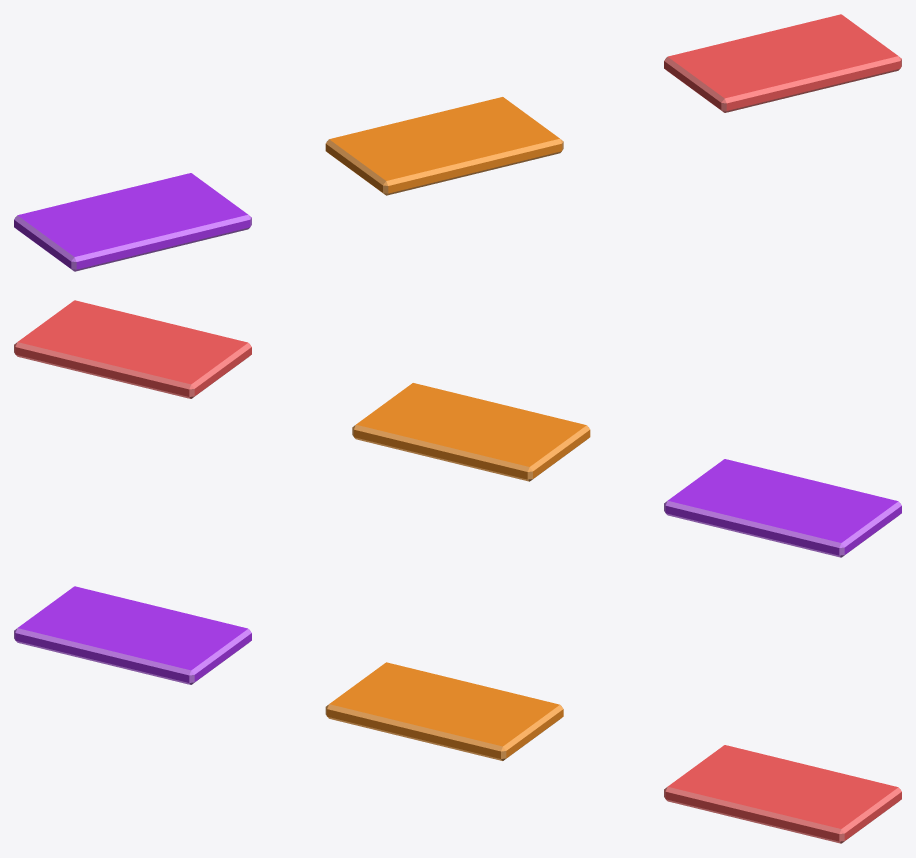
Rendered from mathparkour_bricks.fbx.
The picture shows the model from 3 angles, top to bottom: view 1: azimuth 30°, elevation 25°; view 2: azimuth 150°, elevation 25°; view 3: azimuth 330°, elevation 25°; orthographic projection.
Parts seen in each view (by area): view 1: mathparkour_brick_orange, mathparkour_brick_purple, mathparkour_birck_red; view 2: mathparkour_brick_orange, mathparkour_brick_purple, mathparkour_birck_red; view 3: mathparkour_brick_orange, mathparkour_brick_purple, mathparkour_birck_red.
Part boxes in pixels (x1=…): mathparkour_brick_orange: x1=325, y1=97, x2=563, y2=195; mathparkour_brick_purple: x1=14, y1=173, x2=251, y2=271; mathparkour_birck_red: x1=664, y1=14, x2=901, y2=112; mathparkour_brick_orange: x1=352, y1=383, x2=590, y2=481; mathparkour_brick_purple: x1=664, y1=459, x2=901, y2=557; mathparkour_birck_red: x1=14, y1=300, x2=251, y2=398; mathparkour_brick_orange: x1=325, y1=662, x2=563, y2=760; mathparkour_brick_purple: x1=14, y1=586, x2=251, y2=684; mathparkour_birck_red: x1=664, y1=745, x2=901, y2=843.
Size of the model in its own units: 12.39 by 0.2094 by 1.58.
